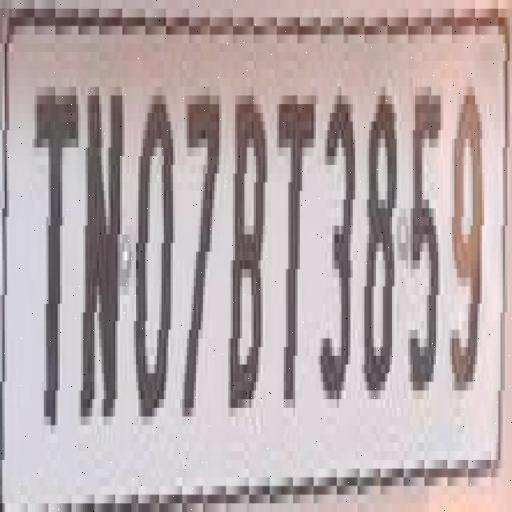number plate: (16, 8, 512, 504)
